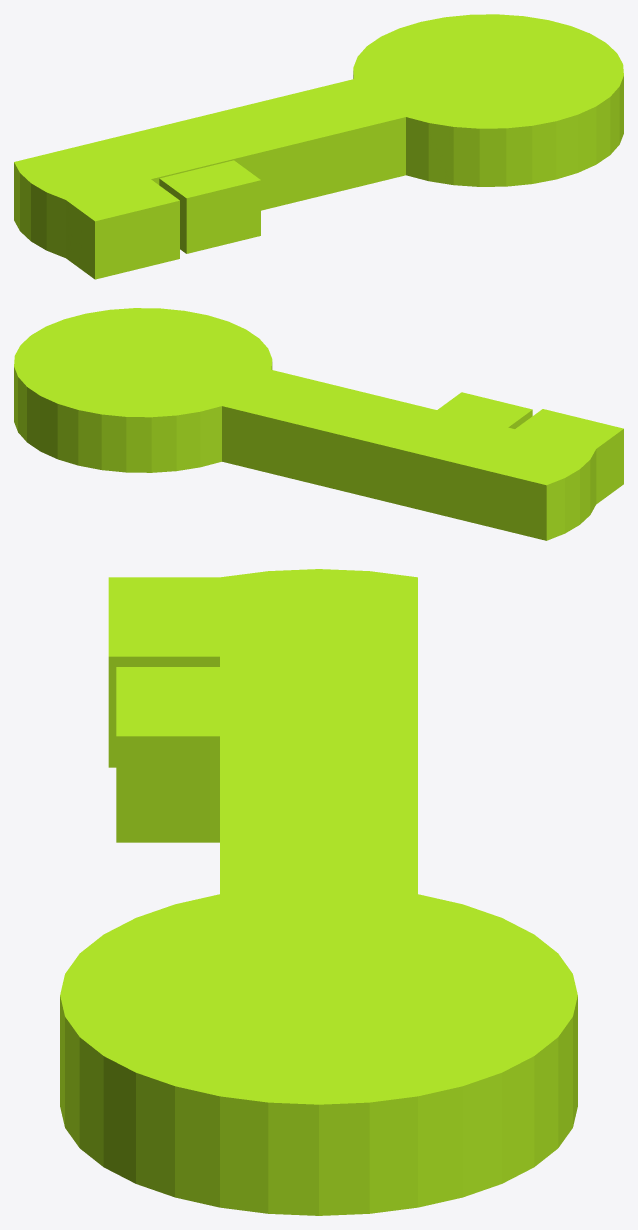
Rendered from key.glb.
3 views of the same model, one above another, from view 1: azimuth 30°, elevation 25°; view 2: azimuth 150°, elevation 25°; view 3: azimuth 270°, elevation 25° (orthographic). The views are drawn at different scales.
Visible parts, largest first — view 1: Key; view 2: Key; view 3: Key.
Boxes of the visible parts, x1=… form: Key: x1=14, y1=14, x2=623, y2=279; Key: x1=14, y1=308, x2=623, y2=540; Key: x1=60, y1=569, x2=577, y2=1215.
Bounding box in the file's own units: 2.85 × 0.2757 × 1.16.
